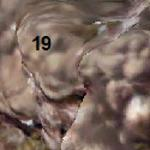alive: (1, 13, 137, 143)
